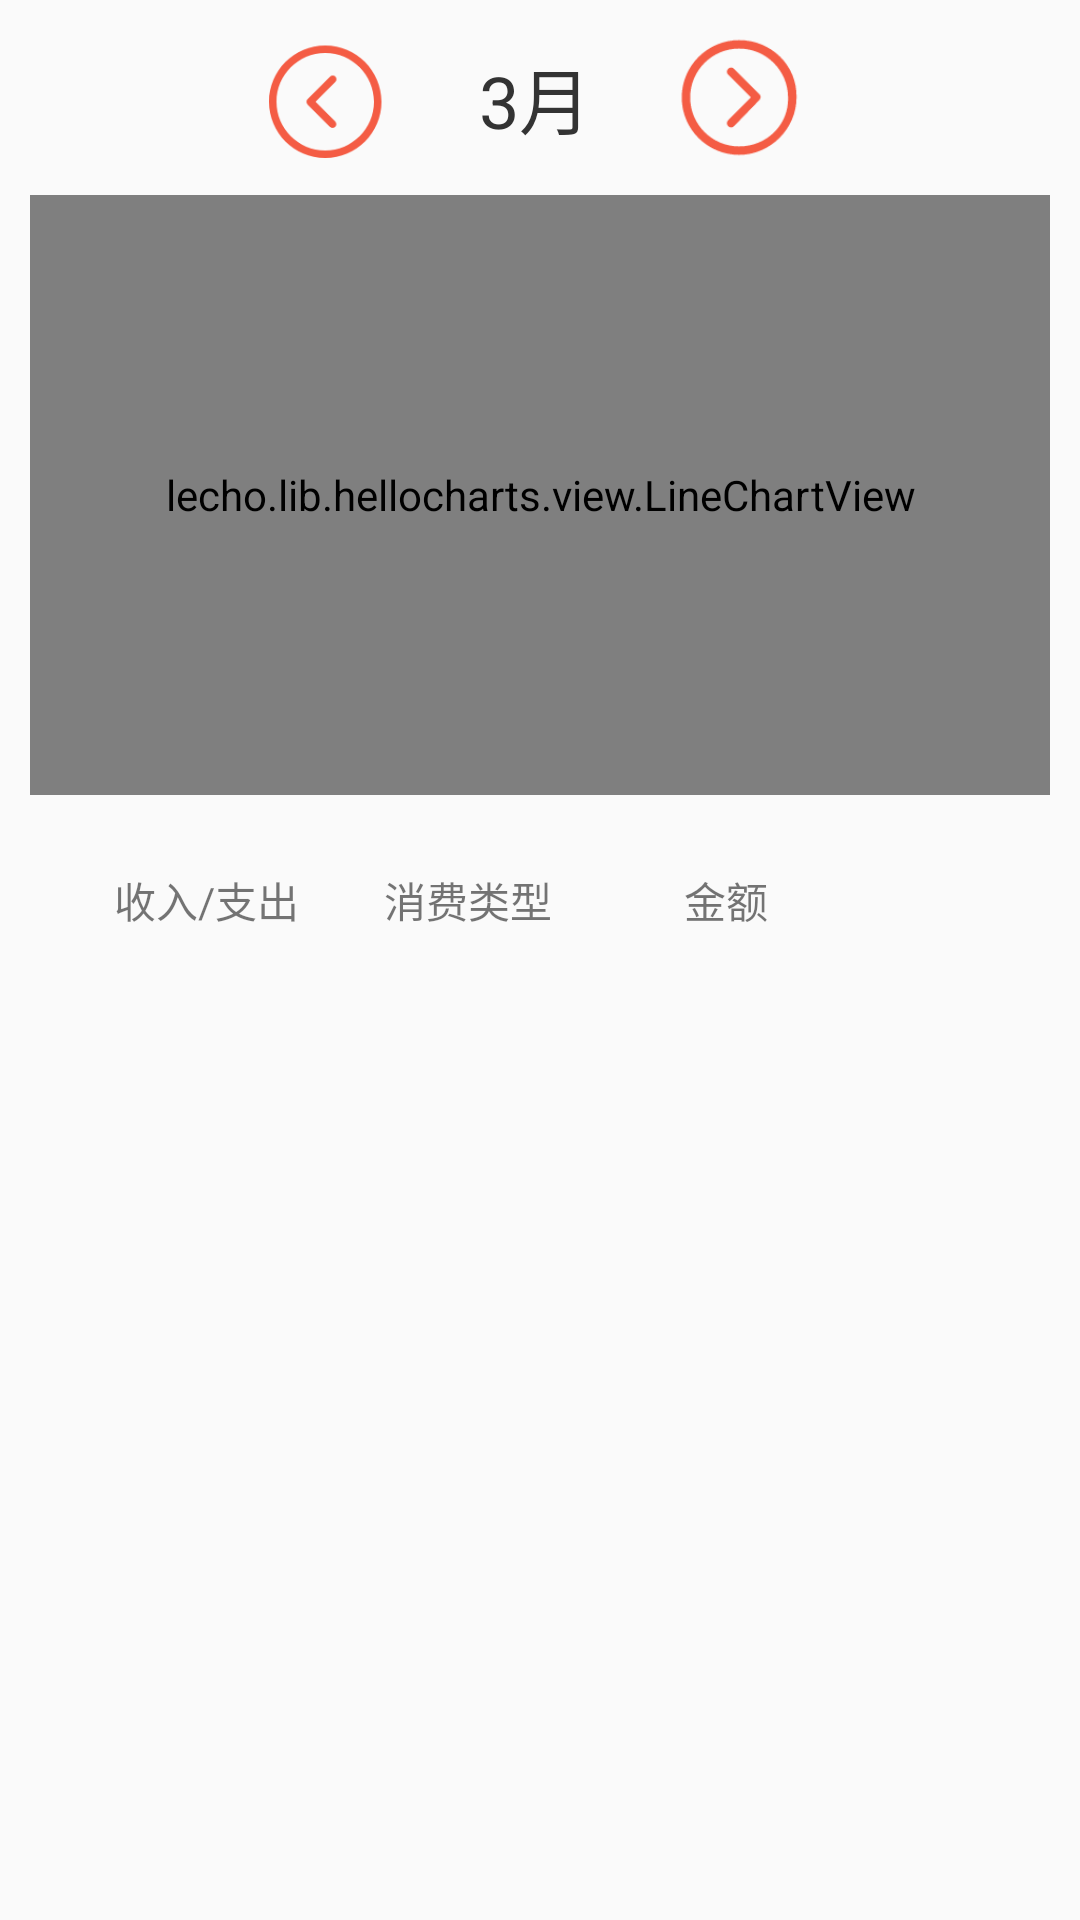

Icon bounding boxes for this 1080w x 1920h phone screenshot, format (x1, y1, x2, y2):
last: (269, 45, 382, 158)
next: (681, 39, 797, 156)
